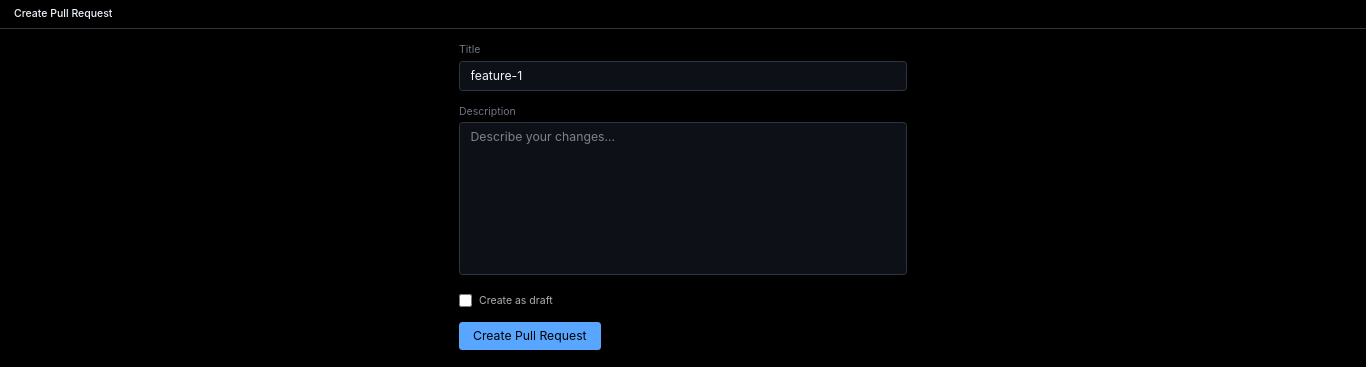
Scenario: PRPanel › disables submit button when title is empty
Clear the field with placeholder "PR title" at (683, 76), box [459,60,907,90]
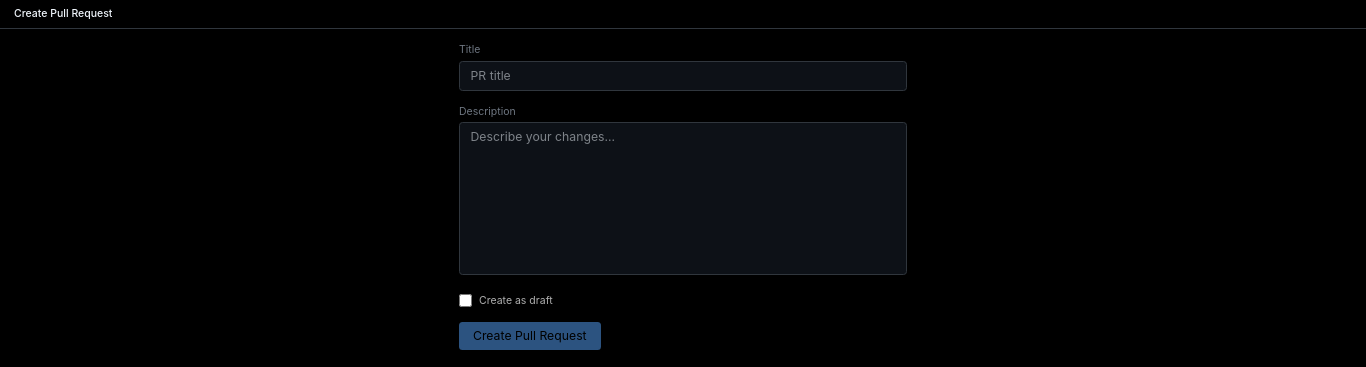
Check: the button "Create Pull Request" is disabled, box [459,322,601,350]
